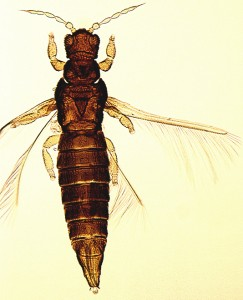Thripidae: (1, 3, 239, 294)
